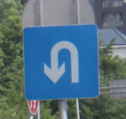u_turn: (23, 24, 100, 100)
